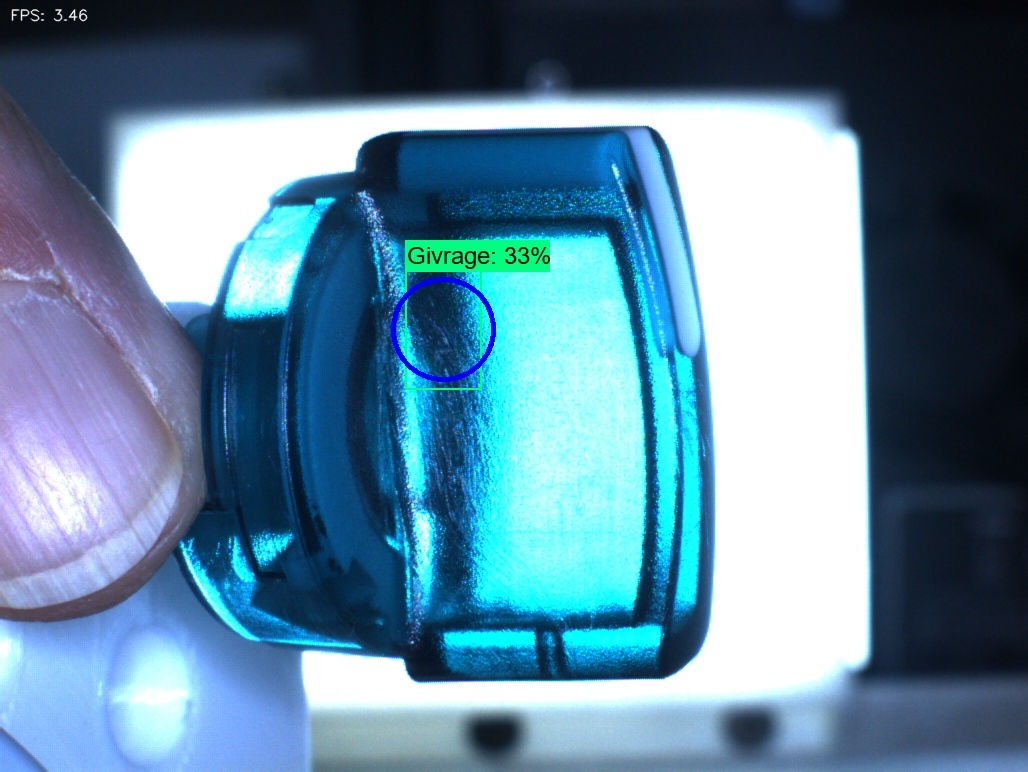Bulle: (498, 591, 603, 720)
